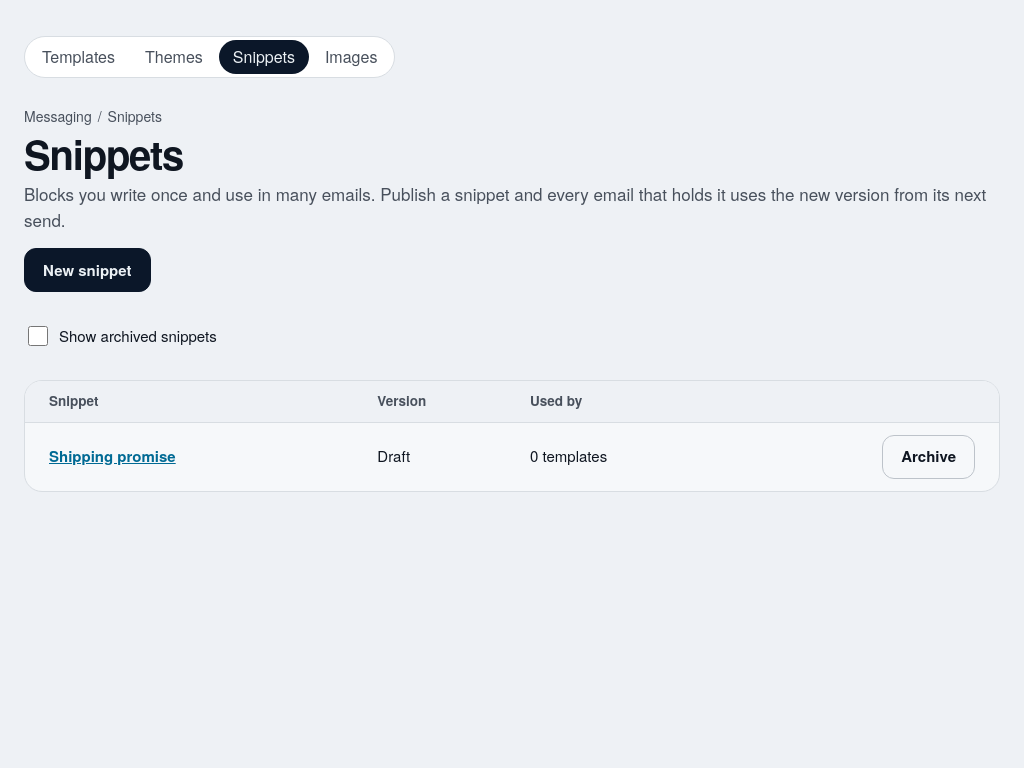
Test case: the snippet list › refuses an archive and lists the templates and themes that hold the snippet
Step 1. Click the button with aria-label "Archive Shipping promise" → (929, 457), box [882,435,975,479]
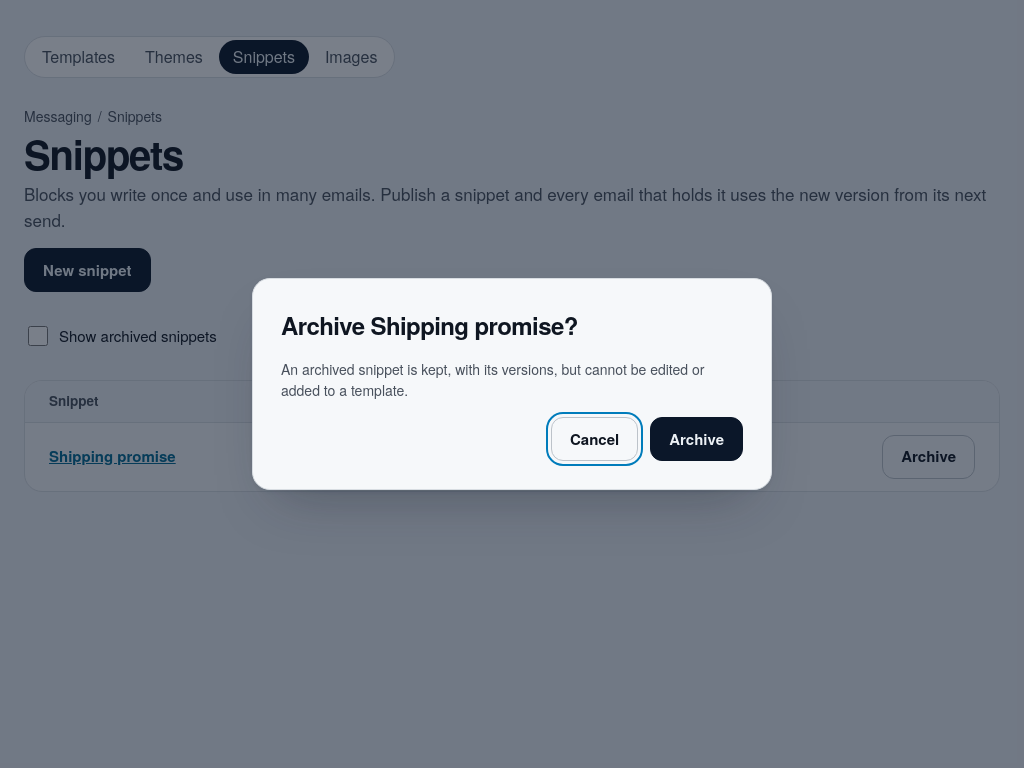
Step 2. Click the button "Archive" → (697, 439), box [650,417,743,461]
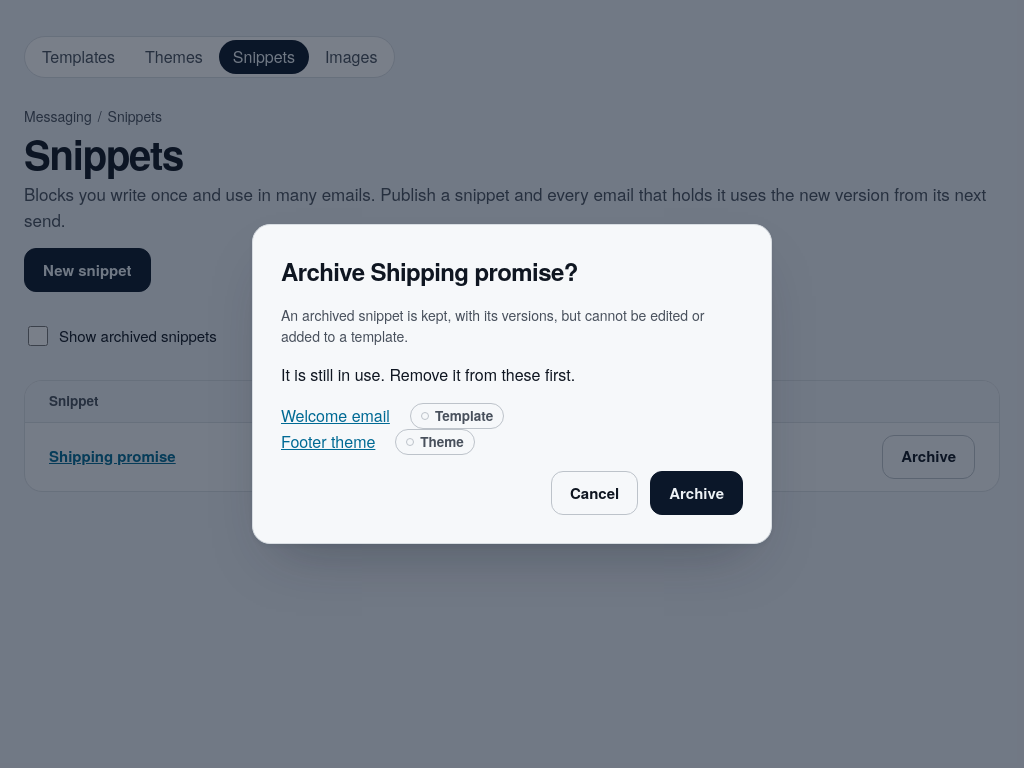
Expected: the text "Template" is shown, [410,403,504,429]
Expected: the text "Theme" is shown, [395,429,475,455]
